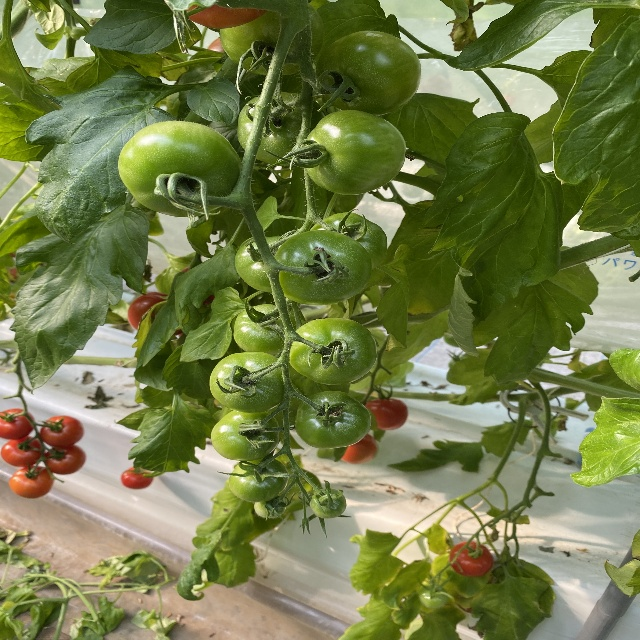l_fully_ripened: (127, 292, 191, 336), (449, 541, 495, 577), (8, 465, 55, 499), (364, 398, 409, 430), (1, 436, 46, 468), (40, 416, 85, 447), (336, 433, 378, 465), (44, 445, 87, 476), (0, 409, 36, 440), (120, 468, 154, 490)
l_green: (118, 120, 243, 218), (315, 30, 422, 116), (303, 110, 406, 195), (220, 0, 324, 76), (273, 230, 373, 306), (237, 90, 326, 166), (286, 317, 378, 386), (209, 352, 290, 414), (309, 211, 388, 272), (294, 390, 372, 449), (211, 410, 281, 462), (235, 236, 295, 295), (233, 304, 300, 355), (228, 456, 289, 504), (310, 488, 347, 519), (254, 496, 286, 518)
